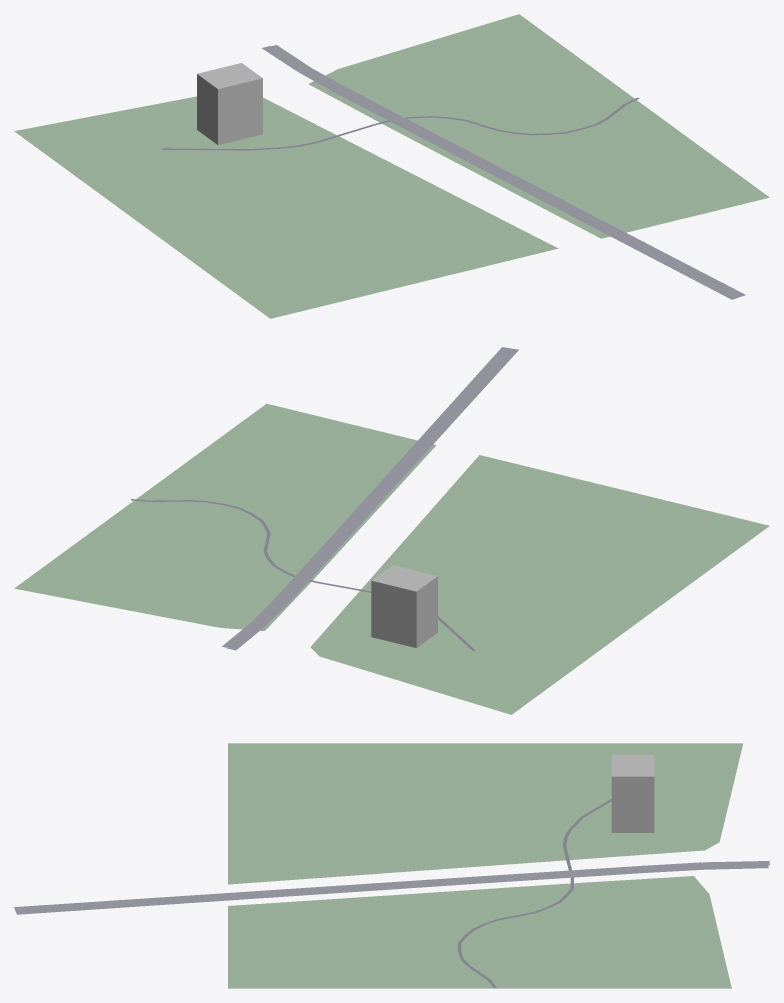
File: 126_128_mid.glb
3 renders of one model, top to bottom at view 1: azimuth 30°, elevation 25°; view 2: azimuth 150°, elevation 25°; view 3: azimuth 270°, elevation 25°, orthographic.
Bounding box in the file's own units: 502 × 54.19 × 652.
